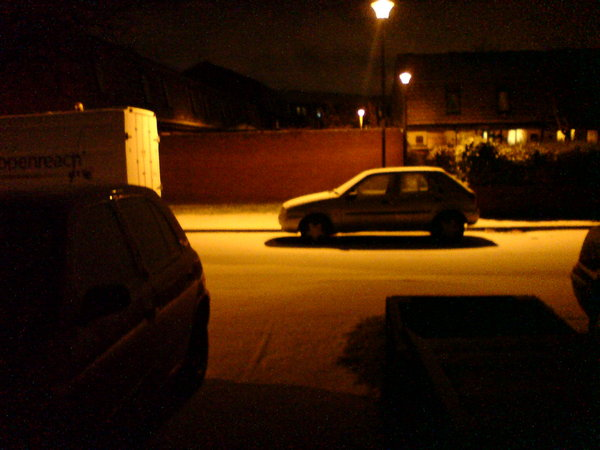car: (275, 159, 489, 245)
